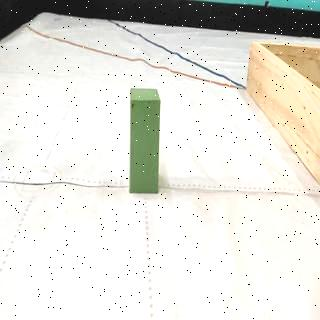greenbox: (126, 84, 164, 195)
